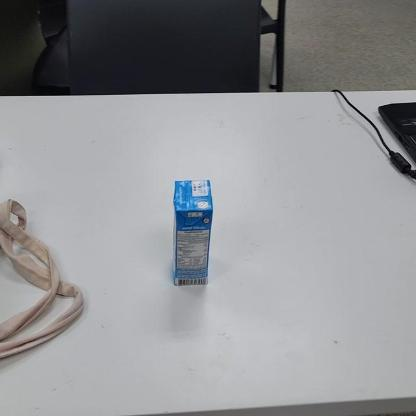Others: (166, 172, 218, 296)
